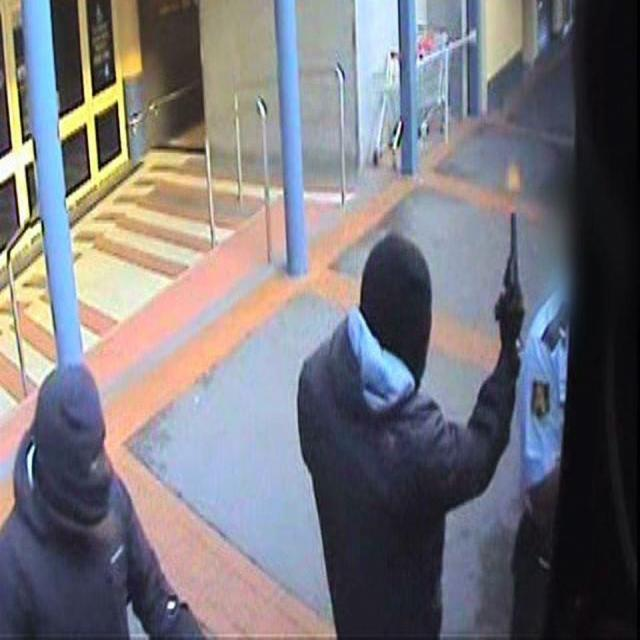gun: (494, 213, 522, 335)
